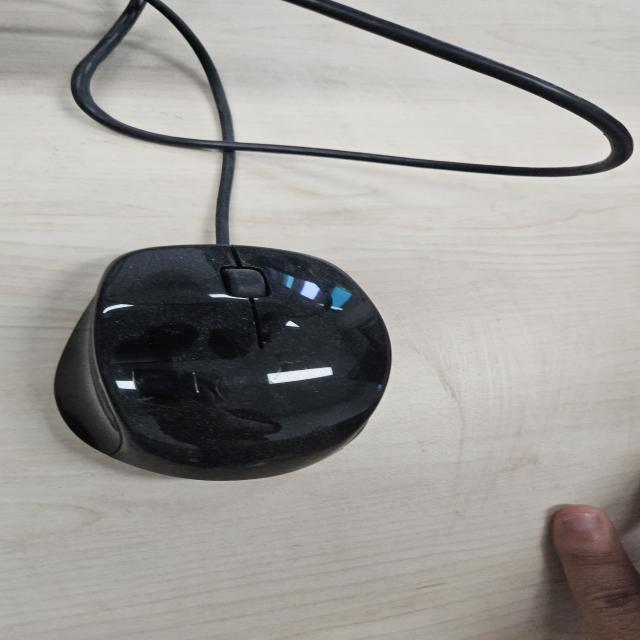Mouse: (51, 242, 395, 482)
